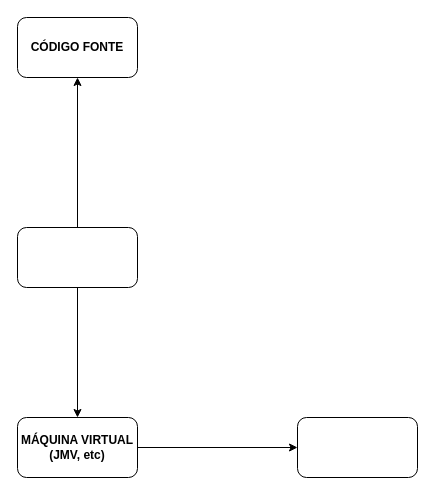
Some shapes in this 435 by 495 pixel diagram are drawn without their labels. Here are the shapes that lost their labels. From the top down, the centre of each, then its label:
the point at 77,257: COMPILADOR PARA BYTECODE
the point at 357,447: EXECUÇÃO
